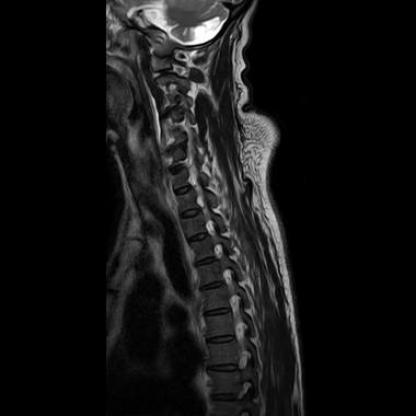Disc Protrusionrotation: (156, 103, 193, 132)
